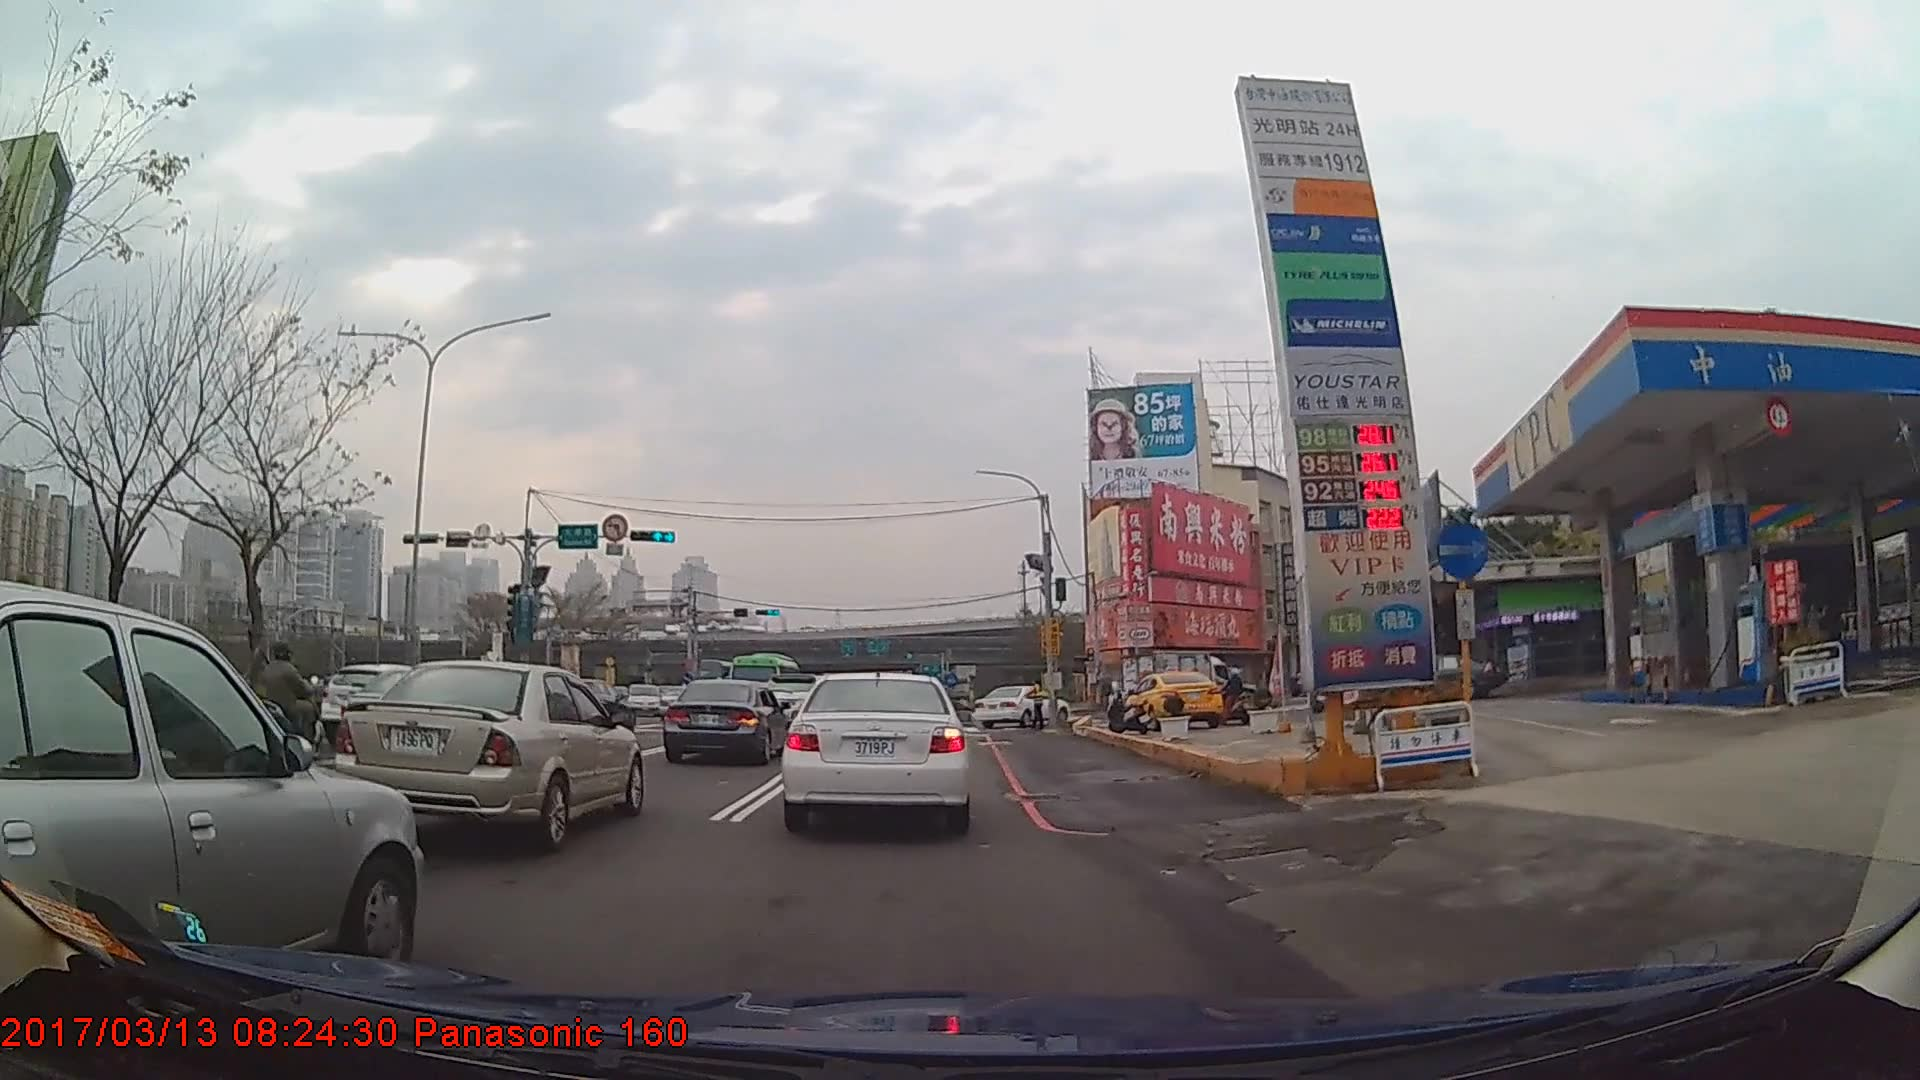pedestrian: (1023, 680, 1047, 732)
rider: (249, 641, 326, 766), (1323, 657, 1365, 719), (1216, 668, 1252, 727)
vehicle: (0, 579, 424, 1000), (335, 659, 645, 851), (784, 668, 971, 833), (662, 677, 789, 765), (1117, 648, 1231, 713), (1127, 669, 1228, 729), (972, 683, 1069, 729), (726, 650, 802, 709), (1406, 651, 1504, 696)
